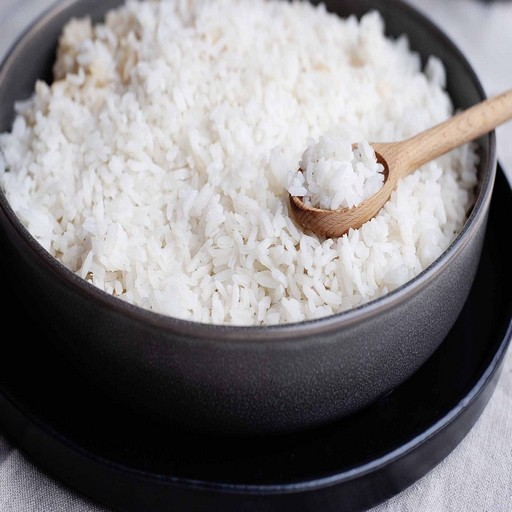rice: (137, 53, 262, 165)
